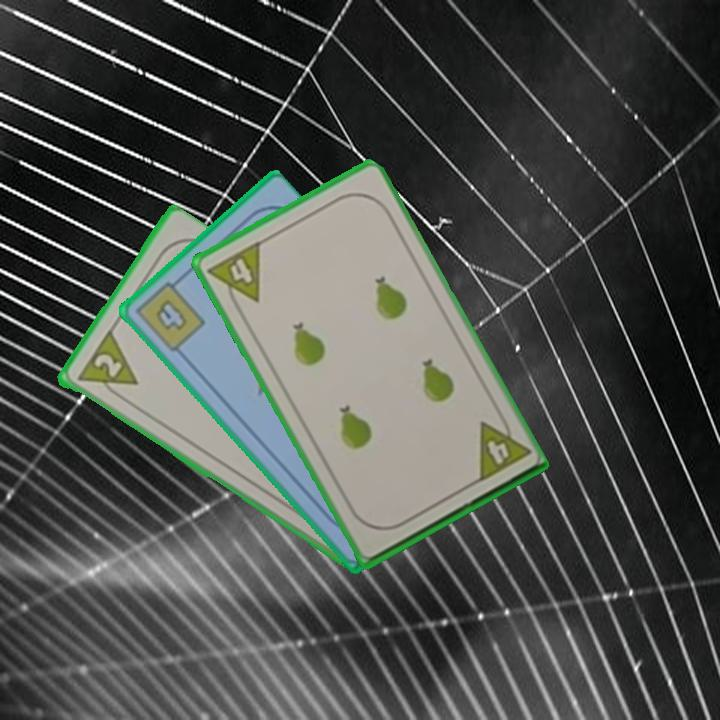2p: (72, 328, 140, 405)
4b: (132, 273, 208, 355)
4p: (204, 237, 263, 315), (473, 409, 532, 486)
